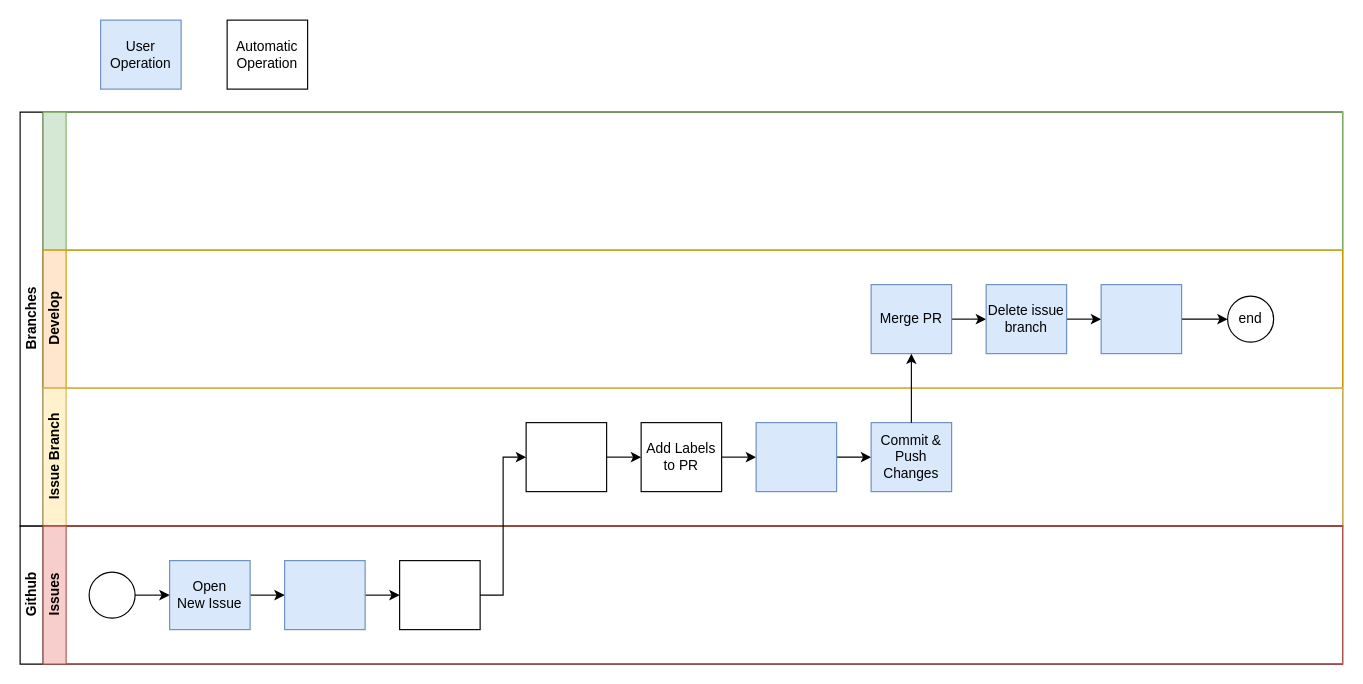
Image size: 1363x684. Some labels were removed from this diagram. The shapes that lost their labels are listed below. From the top down, each one's centre as x and y in pixels, then its label:
At (692,180): "Main (Master)".
At (1141,318): "Close issue".
At (566,456): "New Issue PR".
At (796,456): "Make changes".
At (111,594): "start".
At (324,594): "Add label to issue".
At (439,594): "New Issue Branch".
